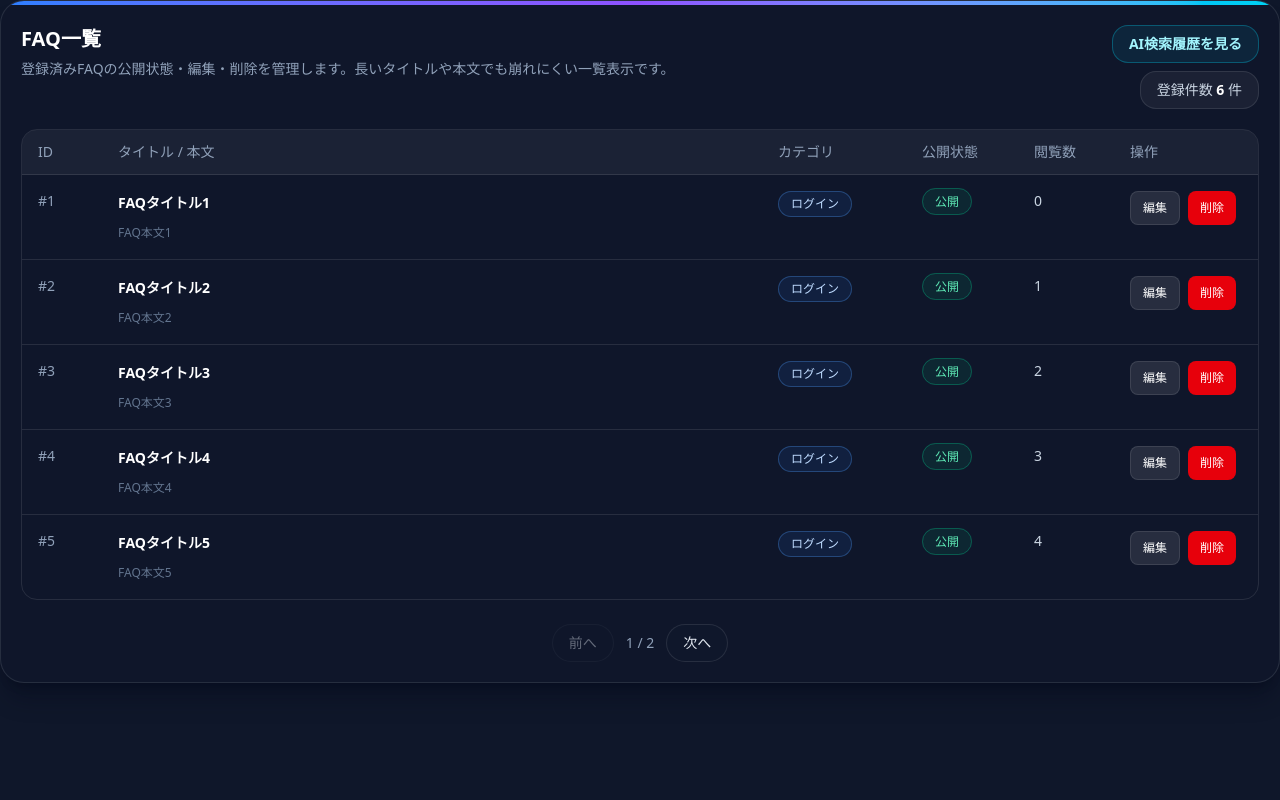
AdminPage › 次へボタンで2ページ目を表示する
Click the button "次へ": (697, 643) x1=666 y1=624 x2=728 y2=662
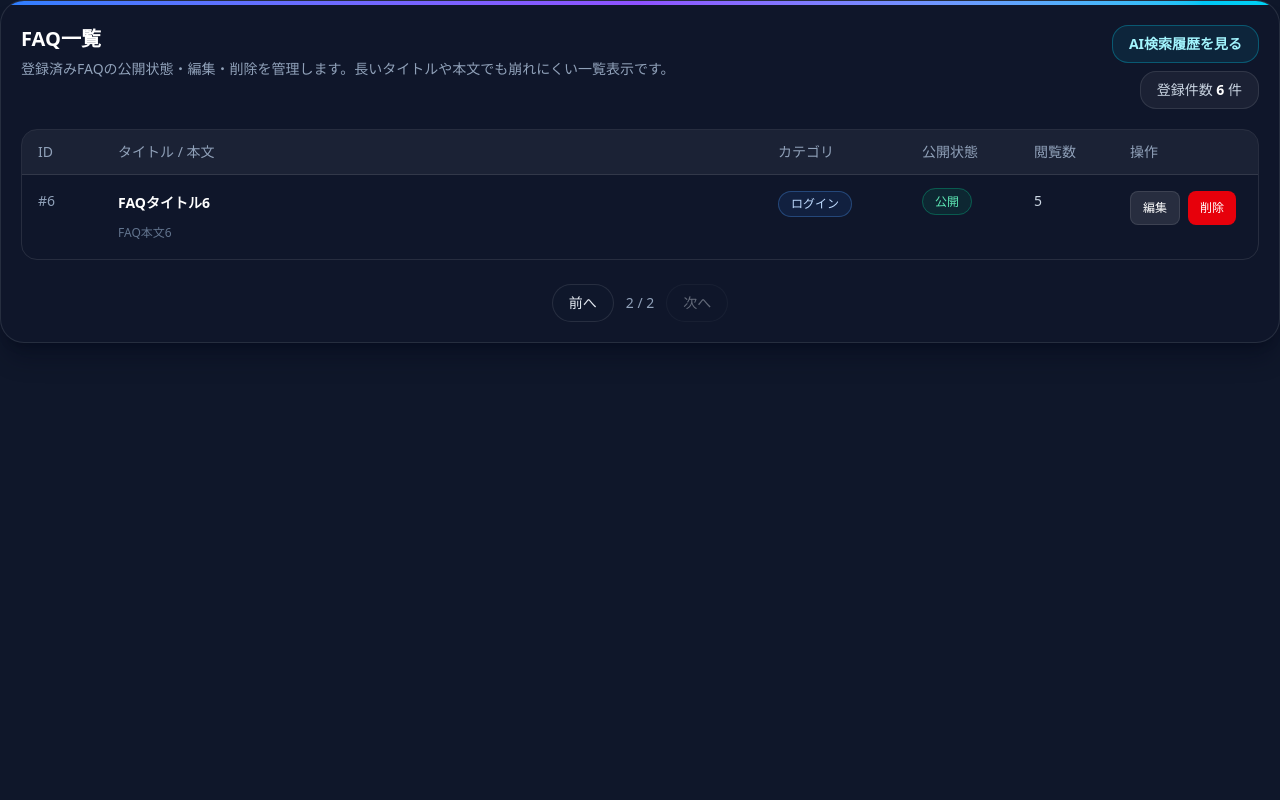
Check: the text "2 / 2" is shown, box x1=626 y1=293 x2=654 y2=313
Check: the button "次へ" is disabled, box x1=666 y1=284 x2=728 y2=322
Check: the button "前へ" is enabled, box x1=552 y1=284 x2=614 y2=322
